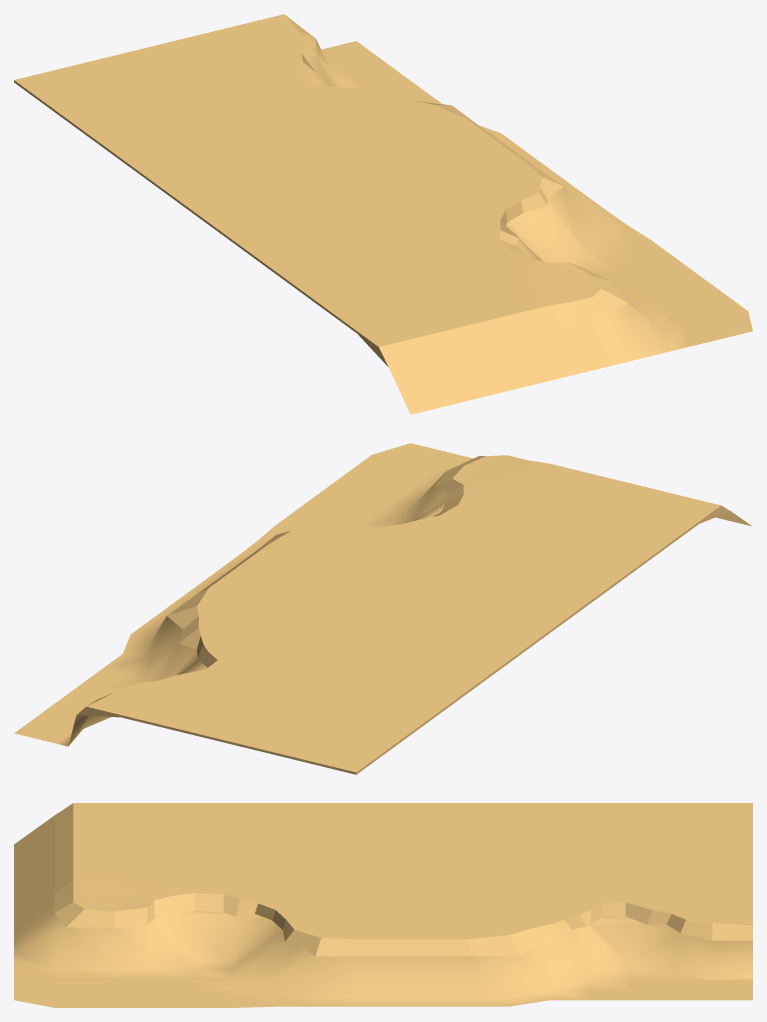
The model's file is Grond.fbx.
3 renders of one model, top to bottom at view 1: azimuth 30°, elevation 25°; view 2: azimuth 150°, elevation 25°; view 3: azimuth 270°, elevation 25°, orthographic. The views are drawn at different scales.
Bounding box in the file's own units: 79.99 × 9.46 × 153.
